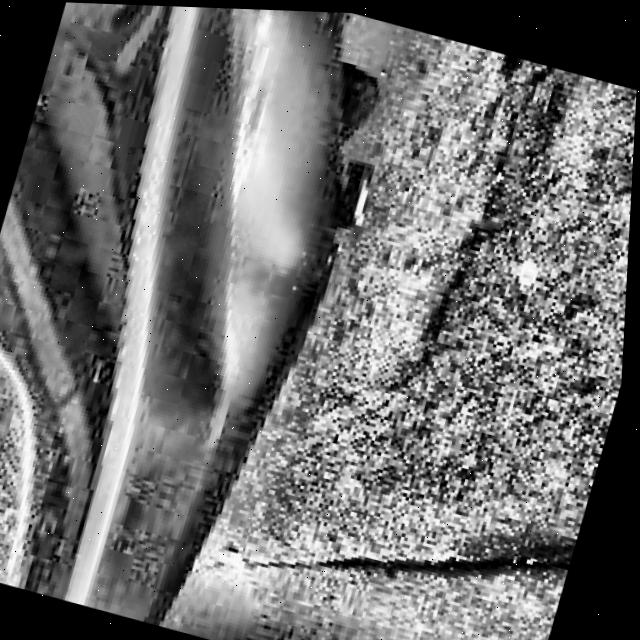bumper_dent: (103, 5, 385, 447)
